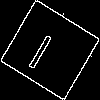I: (25, 25, 60, 71)
